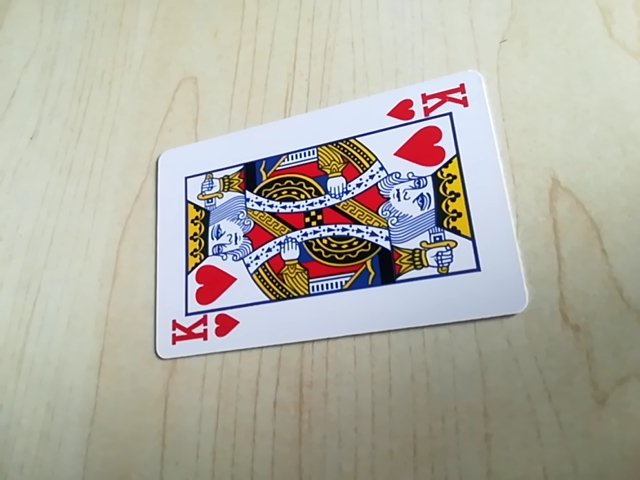hx k: (381, 84, 471, 124), (165, 308, 242, 353)
